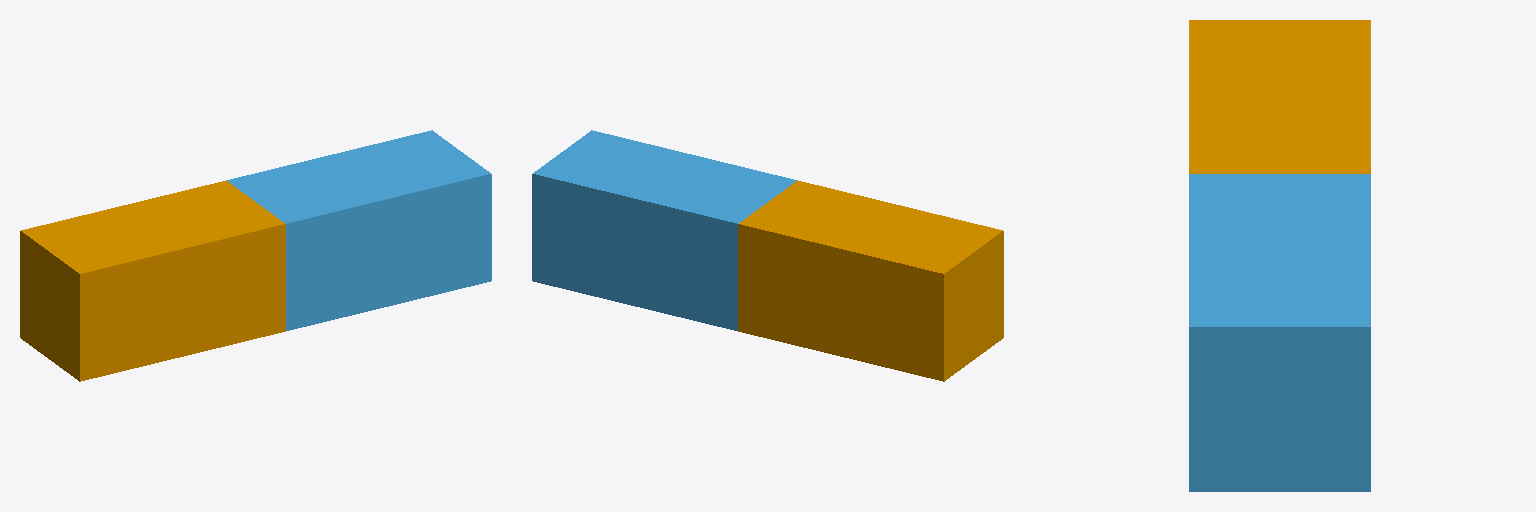
URDF robot description (minimal_two_link_robot):
<robot name="minimal_two_link_robot">
  <link name="link1">
    <visual>
      <geometry>
        <box size="0.2 0.1 0.1"/>
      </geometry>
      <origin xyz=".1 0 0" rpy="0 0 0"/>
    </visual>
  </link>
  <link name="link2">
    <visual>
      <geometry>
        <box size="0.2 0.1 0.1"/>
      </geometry>
      <origin xyz=".1 0 -0.05" rpy="0 0 0"/>
    </visual>
  </link>
  <joint name="joint1" type="revolute">
    <parent link="link1"/>
    <child link="link2"/>
    <origin xyz="0.2 0 0.05" rpy="0 0 0"/>
    <axis xyz="0 1 0"/>
    <limit lower="-1.57" upper="1.57" effort="1" velocity="1"/>
  </joint>
</robot> 

--- Render facts (derived) ---
The picture shows the robot from 3 angles, left to right: view 1: azimuth 30°, elevation 25°; view 2: azimuth 150°, elevation 25°; view 3: azimuth 270°, elevation 25°; orthographic projection.
Model minimal_two_link_robot with 2 links and 1 joints (1 revolute), rooted at link1, posed every joint at zero.
Links seen in each view (by area): view 1: link1, link2; view 2: link1, link2; view 3: link2, link1.
Boxes of the visible links, bbox=[...] form: link1: bbox=[20, 181, 285, 381]; link2: bbox=[226, 130, 491, 330]; link1: bbox=[738, 181, 1003, 381]; link2: bbox=[532, 130, 797, 330]; link2: bbox=[1189, 174, 1370, 491]; link1: bbox=[1189, 20, 1370, 173].
Size in the robot's own frame: 0.4 by 0.1 by 0.1 metres.
Geometry: primitives only (box / cylinder / sphere), no mesh files.